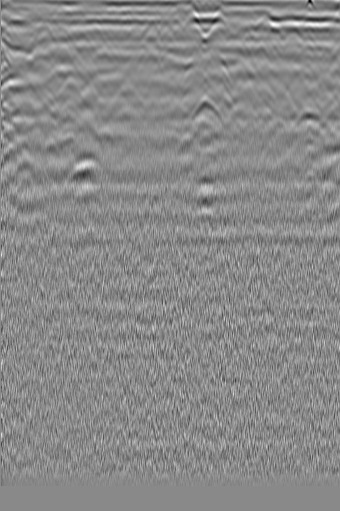상수: (288, 106, 336, 144)
오수: (25, 22, 62, 62)
우수: (184, 93, 225, 131)
